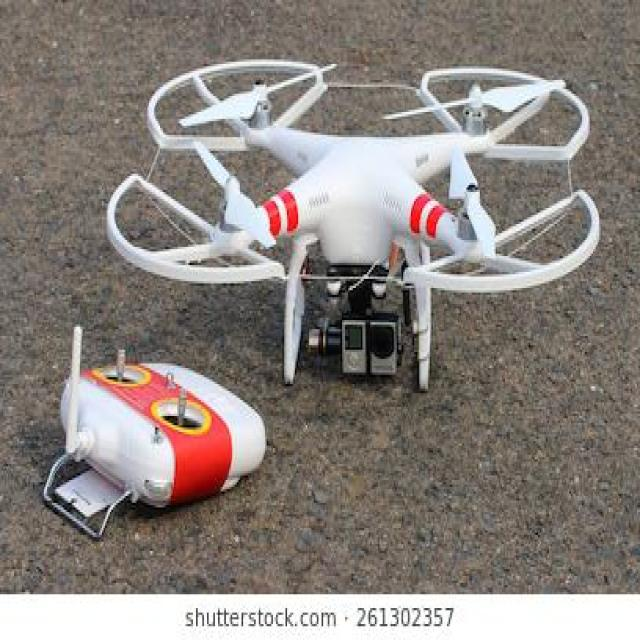drone: (83, 27, 640, 416)
